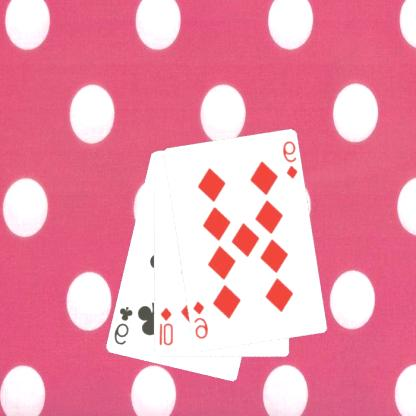10D: (158, 305, 176, 347)
6C: (112, 304, 136, 346)
9D: (191, 298, 211, 341), (281, 138, 301, 181)
